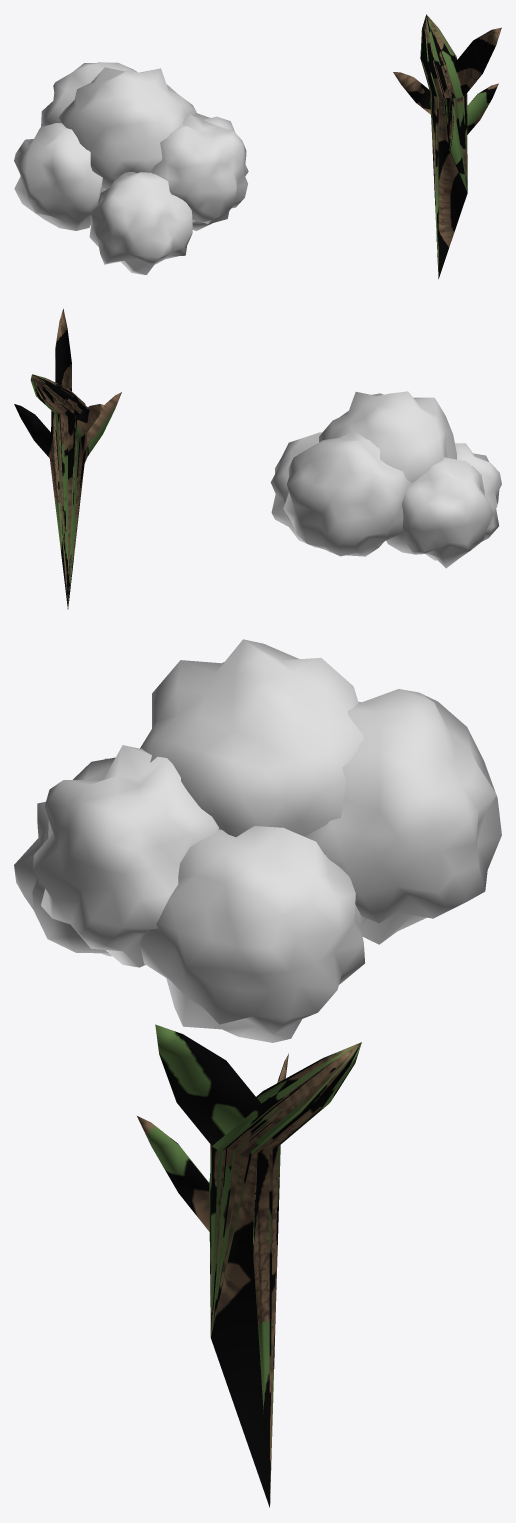
The model's file is hero_tree_r3_v3.glb.
The picture shows the model from 3 angles, top to bottom: view 1: azimuth 30°, elevation 25°; view 2: azimuth 150°, elevation 25°; view 3: azimuth 270°, elevation 25°; orthographic projection. The views are drawn at different scales.
Visible parts, largest first — view 1: hero_tree_lp, canopy_5, canopy_3, canopy_4, canopy_1, canopy_2, canopy_0; view 2: canopy_2, hero_tree_lp, canopy_1, canopy_5, canopy_0, canopy_3; view 3: canopy_0, hero_tree_lp, canopy_2, canopy_5, canopy_4, canopy_3.
Boxes of the visible parts, x1,y1,x2,y2 form: hero_tree_lp: (393, 14, 501, 278); canopy_5: (58, 67, 196, 189); canopy_3: (89, 172, 192, 274); canopy_4: (151, 114, 247, 223); canopy_1: (14, 123, 106, 230); canopy_2: (41, 62, 136, 127); canopy_0: (192, 113, 248, 230); canopy_2: (283, 430, 410, 556); hero_tree_lp: (14, 308, 121, 609); canopy_1: (386, 457, 493, 568); canopy_5: (319, 391, 456, 483); canopy_0: (270, 432, 322, 547); canopy_3: (455, 443, 501, 541); canopy_0: (139, 826, 366, 1042); hero_tree_lp: (137, 1024, 361, 1507); canopy_2: (304, 689, 501, 944); canopy_5: (140, 639, 363, 836); canopy_4: (33, 745, 219, 967); canopy_3: (14, 758, 112, 956).
Bounding box in the file's own units: 11.85 × 6.97 × 5.5.
Materials: 2 (1 with a texture image).
